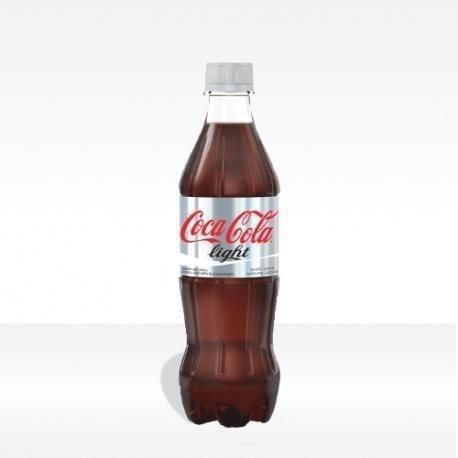bottle-plastic: (174, 57, 284, 433)
